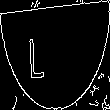L_N: (46, 29, 64, 81)
